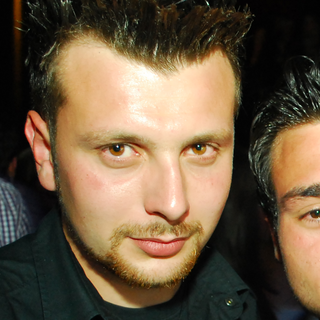eye: (97, 138, 146, 164), (180, 138, 221, 163)
